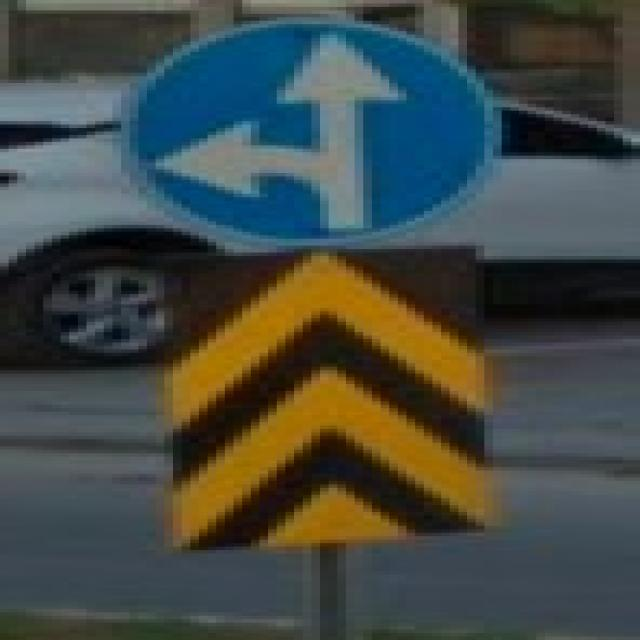Straight or Left: (122, 18, 494, 247)
